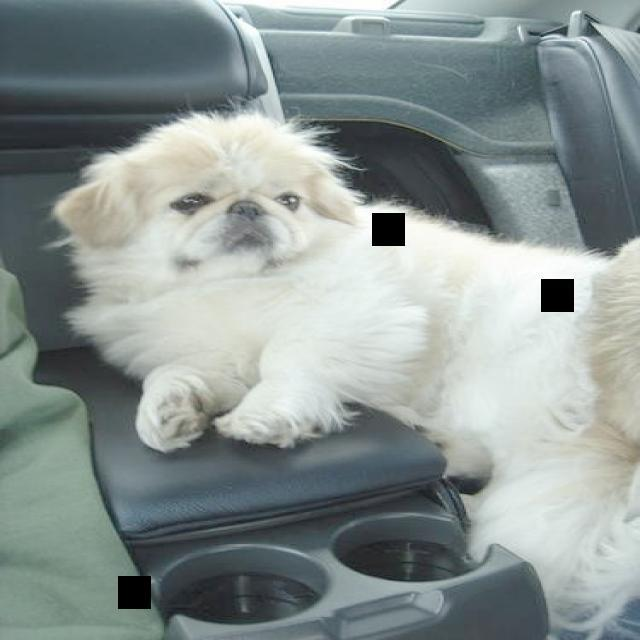adult_dog: (51, 109, 640, 640)
